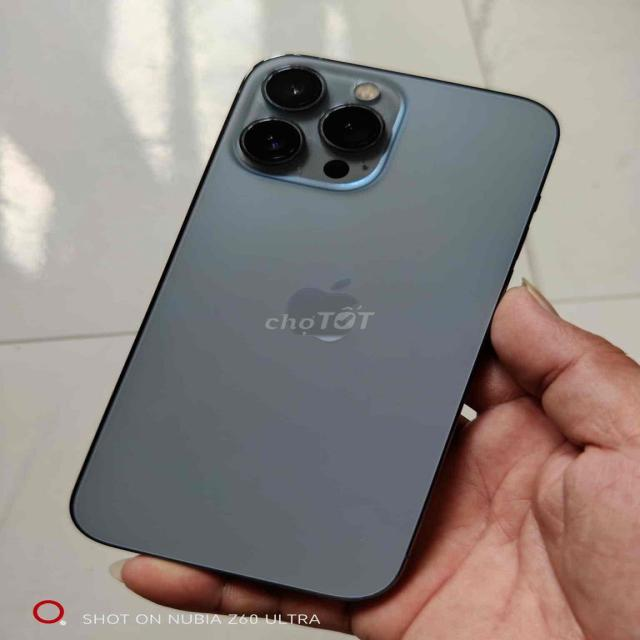gen_12_13: (70, 50, 565, 596)
